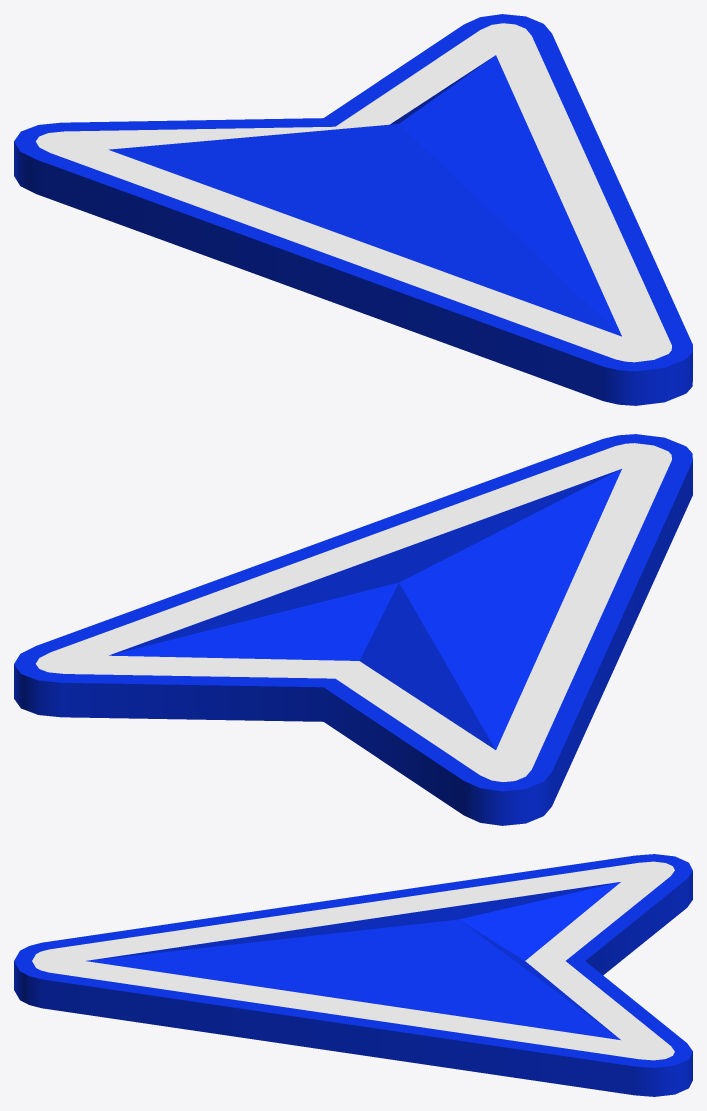
The model's file is map_car_bearing.obj.
3 views of the same model, one above another, from view 1: azimuth 30°, elevation 25°; view 2: azimuth 150°, elevation 25°; view 3: azimuth 270°, elevation 25° (orthographic). The views are drawn at different scales.
Parts seen in each view (by area): view 1: map_car_bearing; view 2: map_car_bearing; view 3: map_car_bearing.
Part boxes in pixels (<box>): map_car_bearing: <box>14,14,692,405</box>; map_car_bearing: <box>14,434,692,825</box>; map_car_bearing: <box>14,854,692,1096</box>.
Size of the model in its own units: 4.54 by 0.6973 by 6.09.
